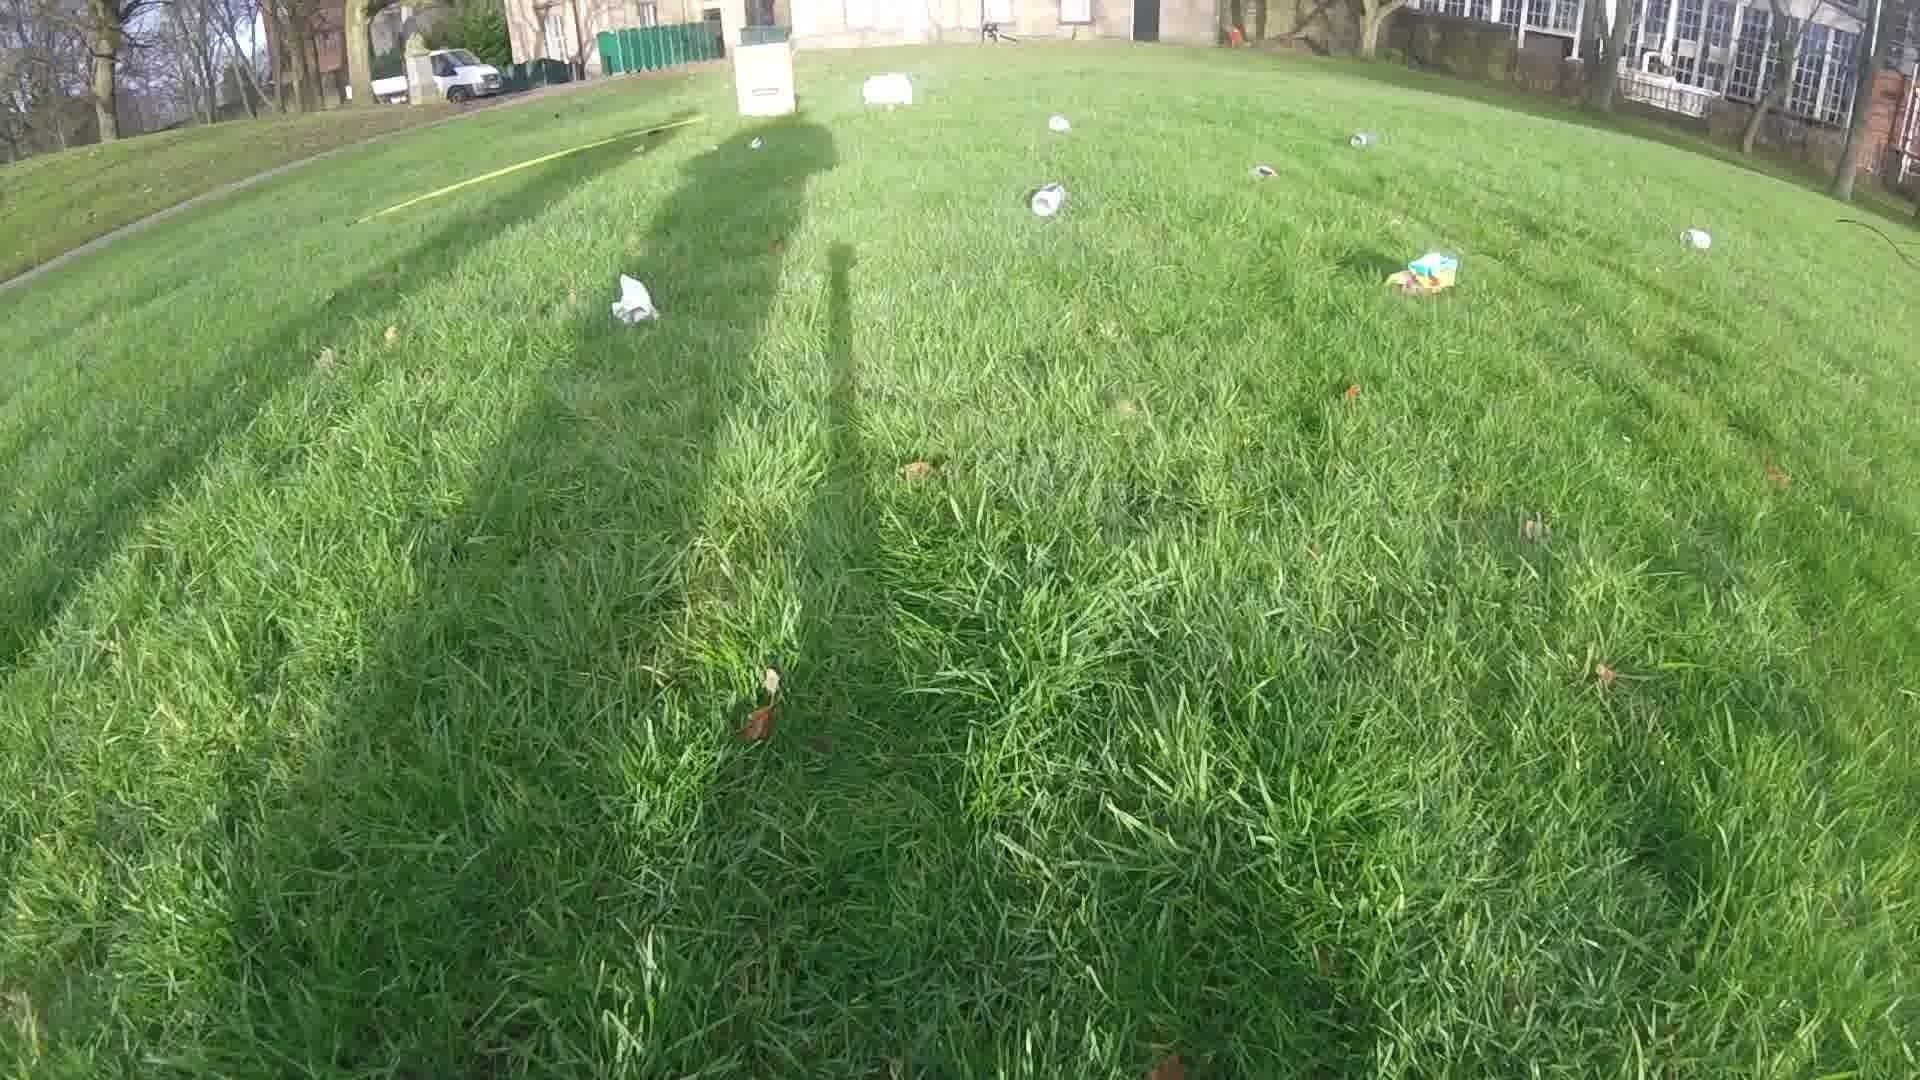litter: (731, 40, 799, 116), (1381, 253, 1458, 298), (615, 277, 659, 323), (861, 73, 915, 109), (1030, 187, 1068, 216), (1680, 229, 1714, 251), (1048, 116, 1073, 135), (1346, 135, 1371, 152), (1247, 169, 1280, 179), (748, 138, 764, 150)
